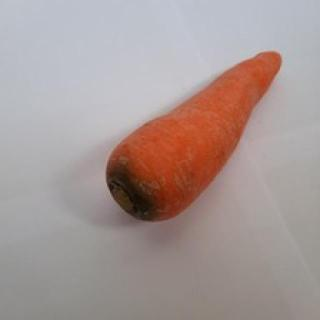carrot: (106, 49, 284, 223)
